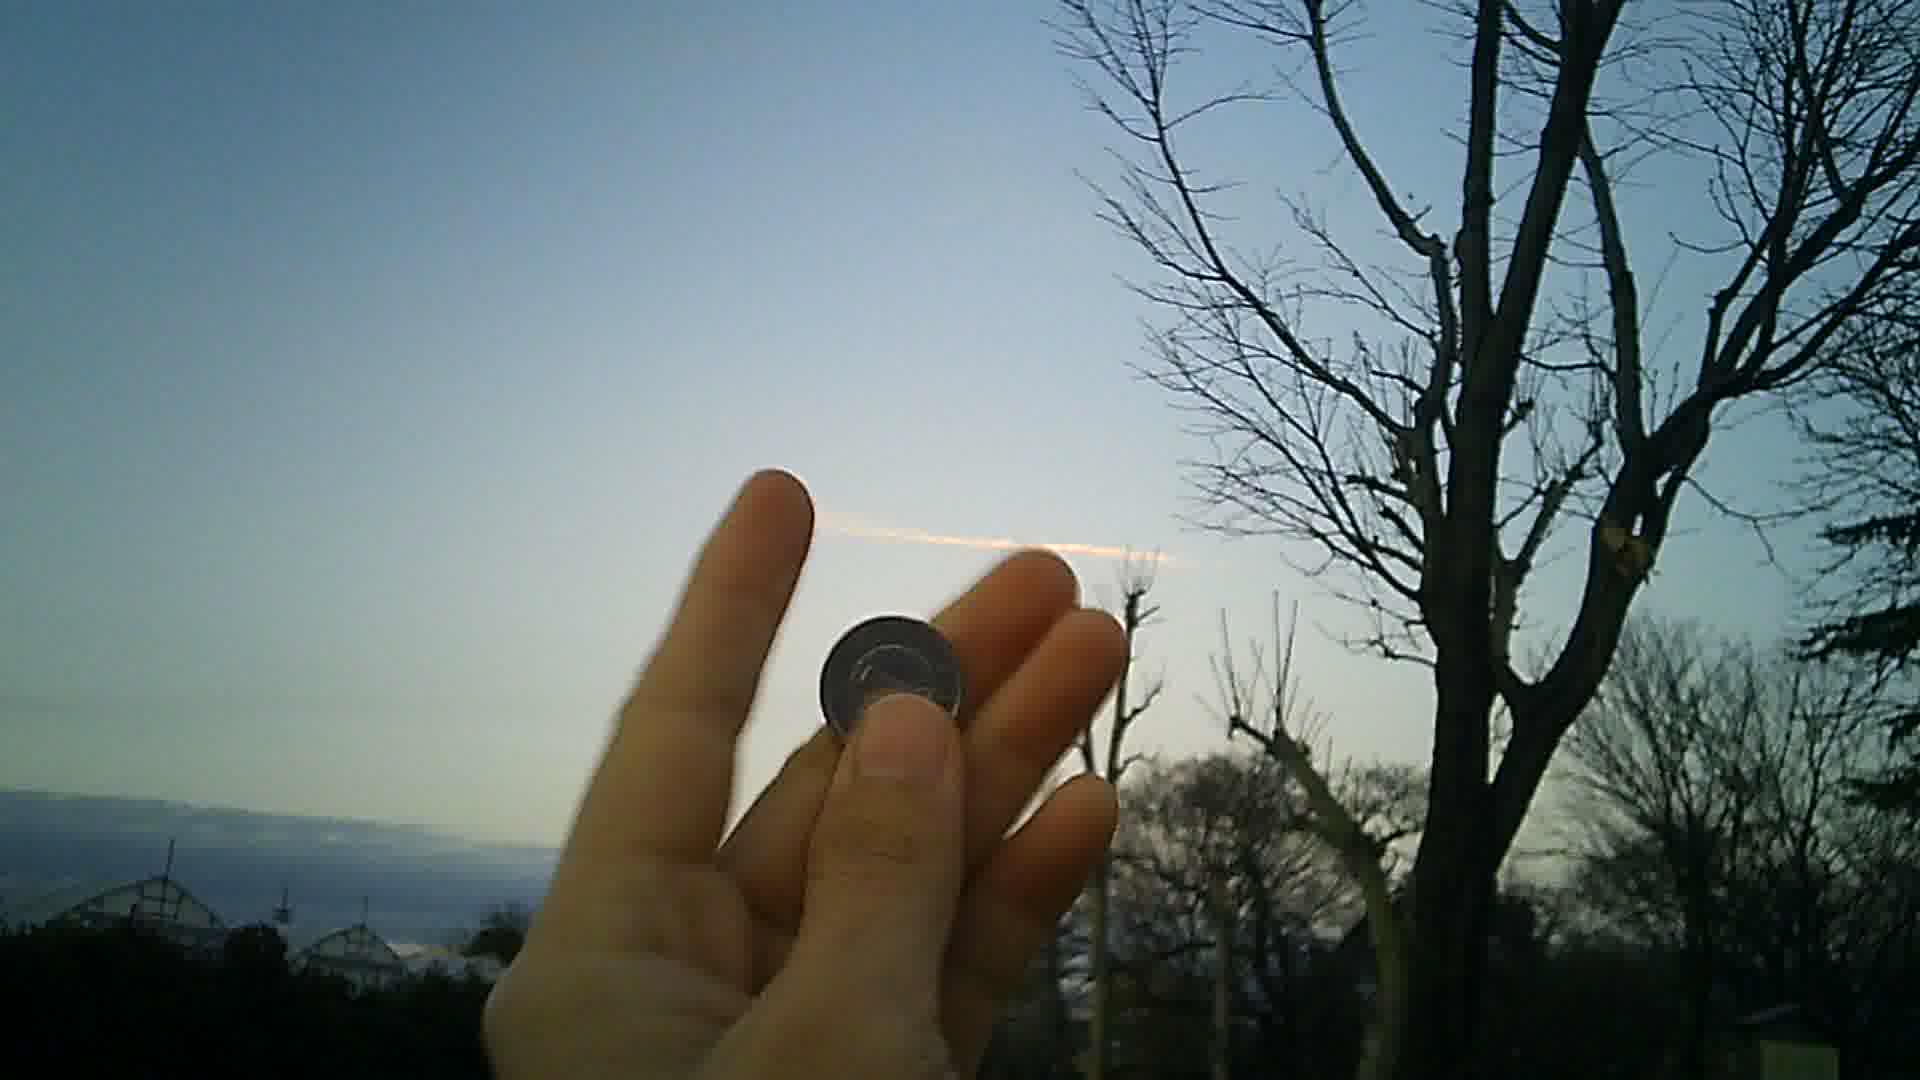1 Yen: (812, 609, 971, 760)
